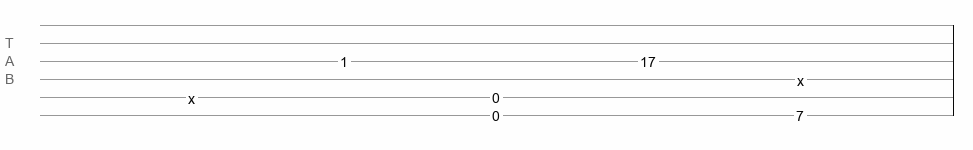0: (492, 108, 500, 118), (492, 90, 500, 100)
1: (340, 54, 348, 64)
17: (640, 54, 656, 64)
7: (796, 108, 804, 118)
x: (188, 91, 195, 99), (797, 73, 804, 81)
